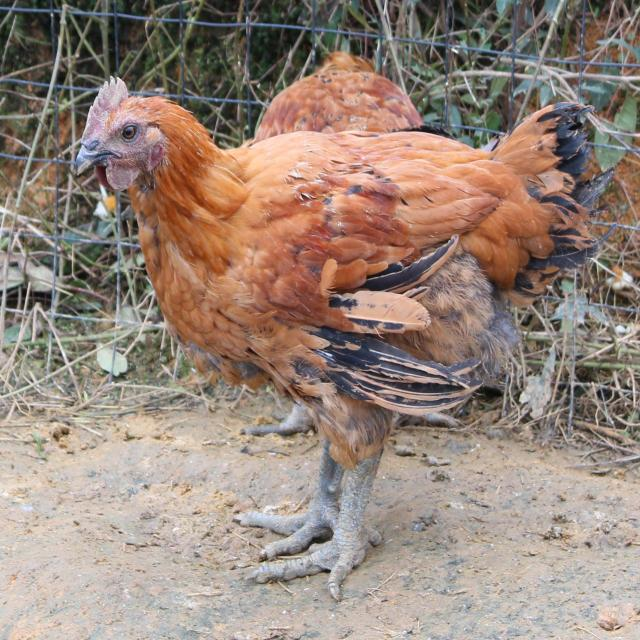hen: (53, 77, 616, 612)
